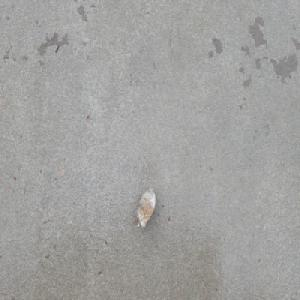Rock: (135, 186, 156, 230)
